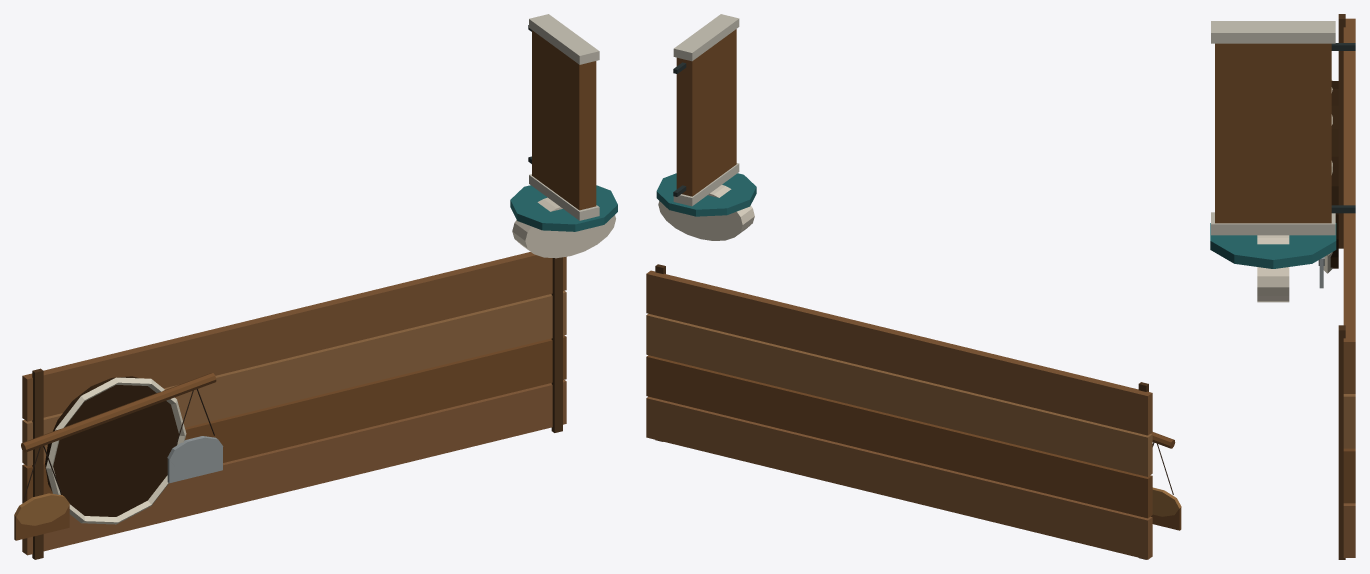
Rendered from bang_pho_ganh_chu_sau_40.glb.
3 renders of one model, left to right at view 1: azimuth 30°, elevation 25°; view 2: azimuth 150°, elevation 25°; view 3: azimuth 270°, elevation 25°, orthographic. The views are drawn at different scales.
Visible parts, largest first — view 1: bang_pho_ganh_chu_sau_40; view 2: bang_pho_ganh_chu_sau_40; view 3: bang_pho_ganh_chu_sau_40.
Boxes of the visible parts, x1=… form: bang_pho_ganh_chu_sau_40: x1=14, y1=14, x2=617, y2=559; bang_pho_ganh_chu_sau_40: x1=646, y1=14, x2=1181, y2=559; bang_pho_ganh_chu_sau_40: x1=1210, y1=14, x2=1355, y2=559.
Size of the model in its own units: 4.06 by 2.84 by 0.7238.
